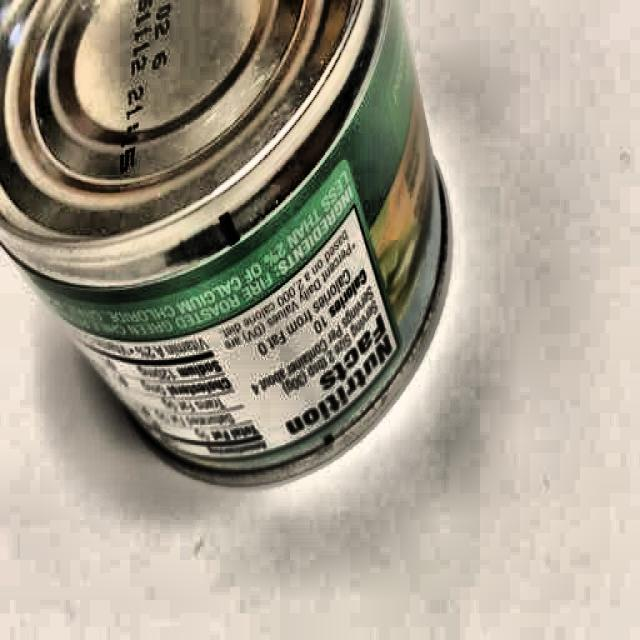metal: (0, 0, 441, 493)
